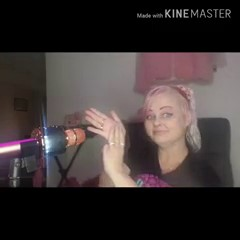M: (84, 105, 131, 176)
